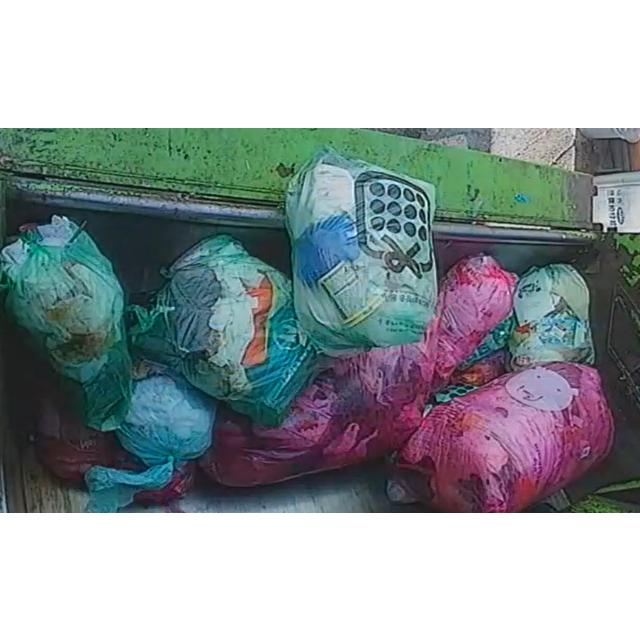general_trashbag: (130, 233, 316, 424), (286, 148, 438, 353), (0, 214, 131, 431), (509, 263, 595, 368)
other_trashbag: (201, 318, 438, 486), (389, 362, 614, 511), (85, 373, 215, 511), (431, 252, 518, 391)
